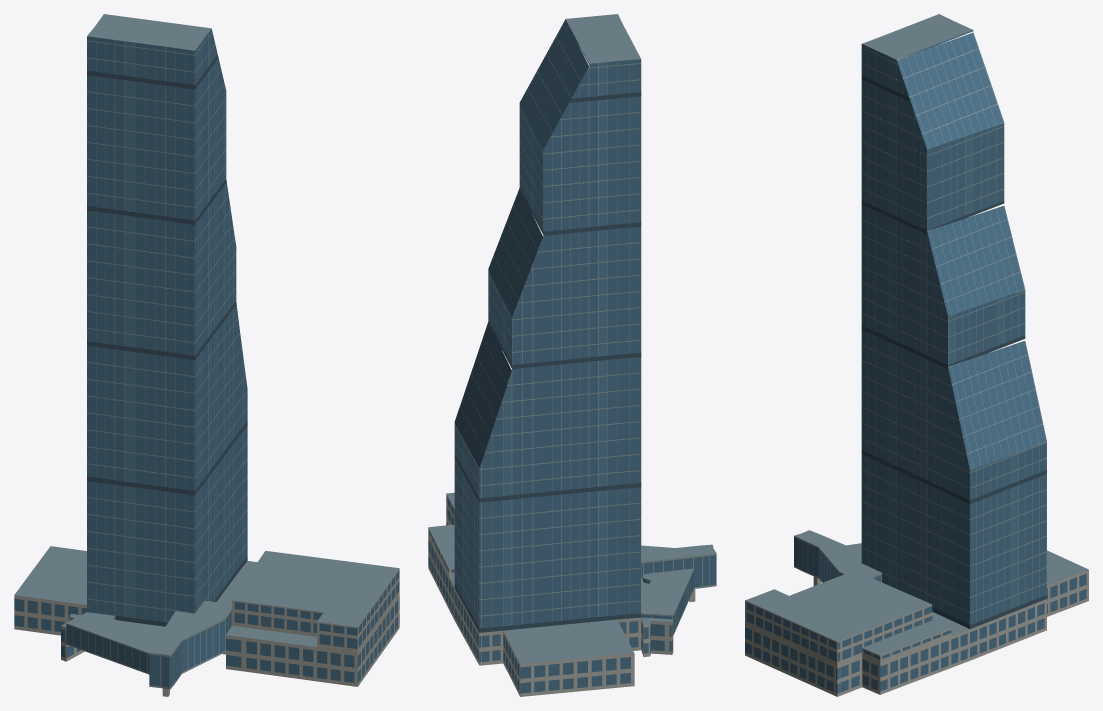
Rendered from biltmore-tbilisi-near.glb.
3 renders of one model, left to right at view 1: azimuth 30°, elevation 25°; view 2: azimuth 150°, elevation 25°; view 3: azimuth 270°, elevation 25°, orthographic. The views are drawn at different scales.
Parts seen in each view (by area): view 1: biltmore-tbilisi-0-glass, biltmore-tbilisi-0-roof, biltmore-tbilisi-0-frame, biltmore-tbilisi-0-glass2, biltmore-tbilisi-0-stone, biltmore-tbilisi-0-vent; view 2: biltmore-tbilisi-0-glass, biltmore-tbilisi-0-frame, biltmore-tbilisi-0-roof, biltmore-tbilisi-0-glass2, biltmore-tbilisi-0-stone, biltmore-tbilisi-0-vent; view 3: biltmore-tbilisi-0-glass, biltmore-tbilisi-0-frame, biltmore-tbilisi-0-roof, biltmore-tbilisi-0-stone, biltmore-tbilisi-0-glass2, biltmore-tbilisi-0-vent.
Boxes of the visible parts, x1,y1,x2,y2 form: biltmore-tbilisi-0-glass: (14, 29, 399, 687); biltmore-tbilisi-0-roof: (14, 14, 399, 655); biltmore-tbilisi-0-frame: (66, 32, 247, 689); biltmore-tbilisi-0-glass2: (125, 29, 226, 618); biltmore-tbilisi-0-stone: (14, 569, 399, 696); biltmore-tbilisi-0-vent: (87, 55, 247, 626); biltmore-tbilisi-0-glass: (428, 20, 715, 693); biltmore-tbilisi-0-frame: (454, 19, 716, 635); biltmore-tbilisi-0-roof: (428, 14, 715, 663); biltmore-tbilisi-0-glass2: (468, 28, 607, 626); biltmore-tbilisi-0-stone: (428, 494, 695, 696); biltmore-tbilisi-0-vent: (454, 92, 641, 632); biltmore-tbilisi-0-glass: (745, 32, 1086, 693); biltmore-tbilisi-0-frame: (794, 30, 1046, 624); biltmore-tbilisi-0-roof: (745, 14, 1088, 655); biltmore-tbilisi-0-stone: (745, 569, 1088, 696); biltmore-tbilisi-0-glass2: (889, 30, 1018, 608); biltmore-tbilisi-0-vent: (861, 76, 1046, 628).
Bounding box in the file's own units: 68.32 × 138 × 75.85.
